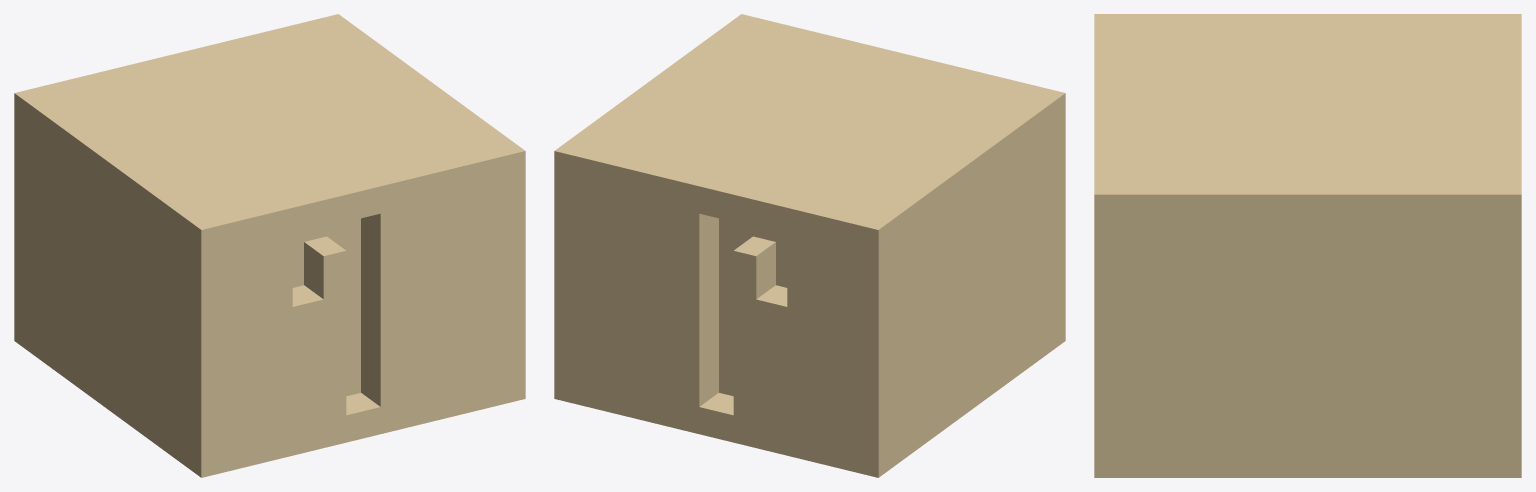
The model's file is GPE_SnakeBodyMotif.fbx.
3 views of the same model, side by side, from view 1: azimuth 30°, elevation 25°; view 2: azimuth 150°, elevation 25°; view 3: azimuth 270°, elevation 25° (orthographic). The views are drawn at different scales.
Visible parts, largest first — view 1: Cube.212; view 2: Cube.212; view 3: Cube.212.
Boxes of the visible parts, box(x1,y1,x2,y2) form: Cube.212: box(14, 14, 525, 477); Cube.212: box(554, 14, 1065, 477); Cube.212: box(1094, 14, 1521, 477).
Size of the model in its own units: 378 by 276 by 378.
